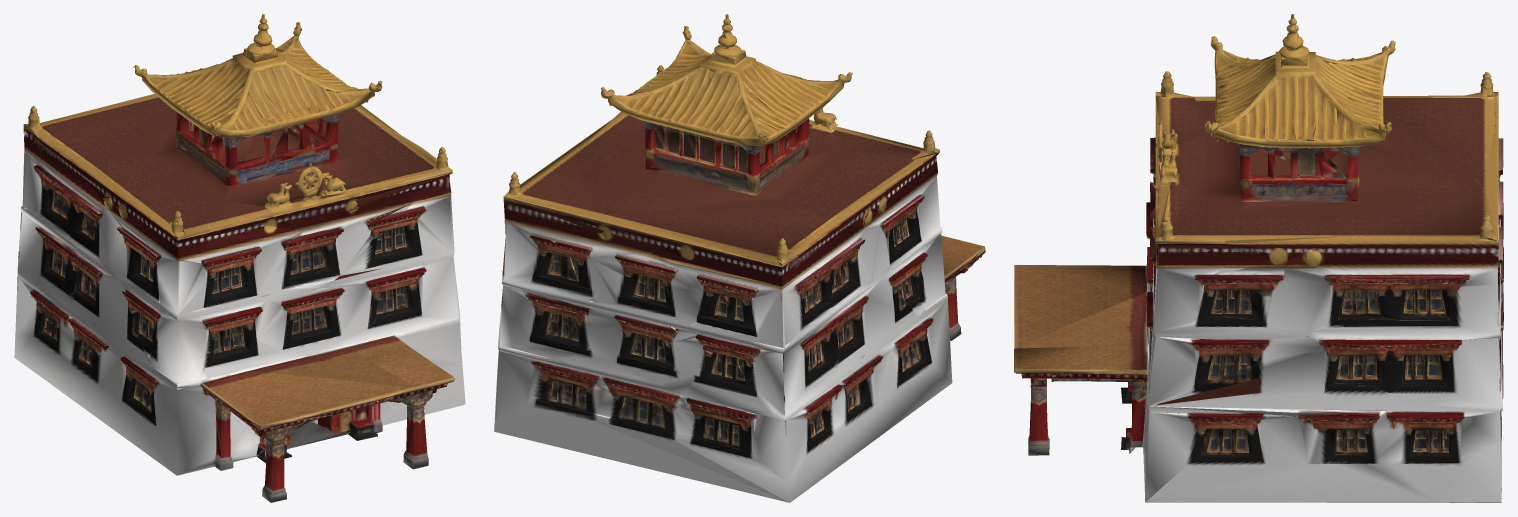
Rendered from monastery_hall_35k.glb.
The picture shows the model from 3 angles, left to right: view 1: azimuth 30°, elevation 25°; view 2: azimuth 150°, elevation 25°; view 3: azimuth 270°, elevation 25°; orthographic projection. The views are drawn at different scales.
Parts seen in each view (by area): view 1: output_unwrapped; view 2: output_unwrapped; view 3: output_unwrapped.
Part boxes in pixels (x1,y1,x2,y2): output_unwrapped: (14,14,465,502); output_unwrapped: (494,14,985,502); output_unwrapped: (1014,14,1503,502).
Size of the model in its own units: 11.41 by 14 by 14.91.
1 material, 1 textured.
